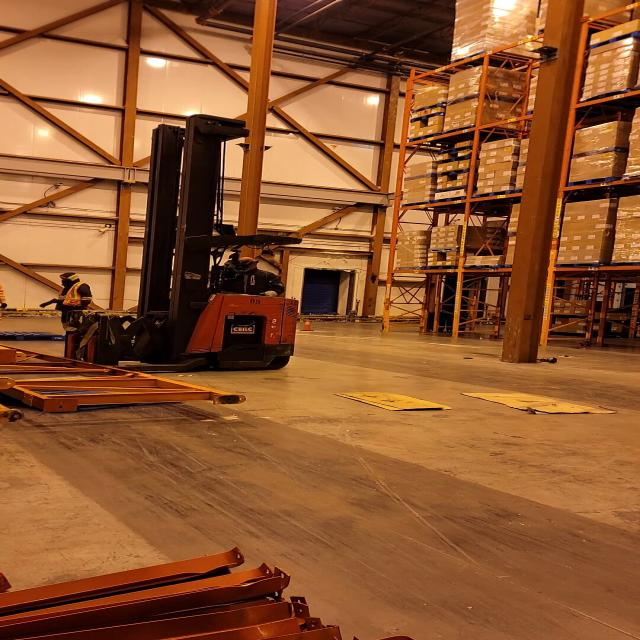forklift: (58, 122, 298, 374)
human: (205, 255, 292, 302), (41, 269, 99, 336), (0, 282, 12, 314)
objectofinterest: (0, 348, 256, 411), (462, 390, 622, 416), (329, 388, 456, 412), (0, 329, 67, 342)
